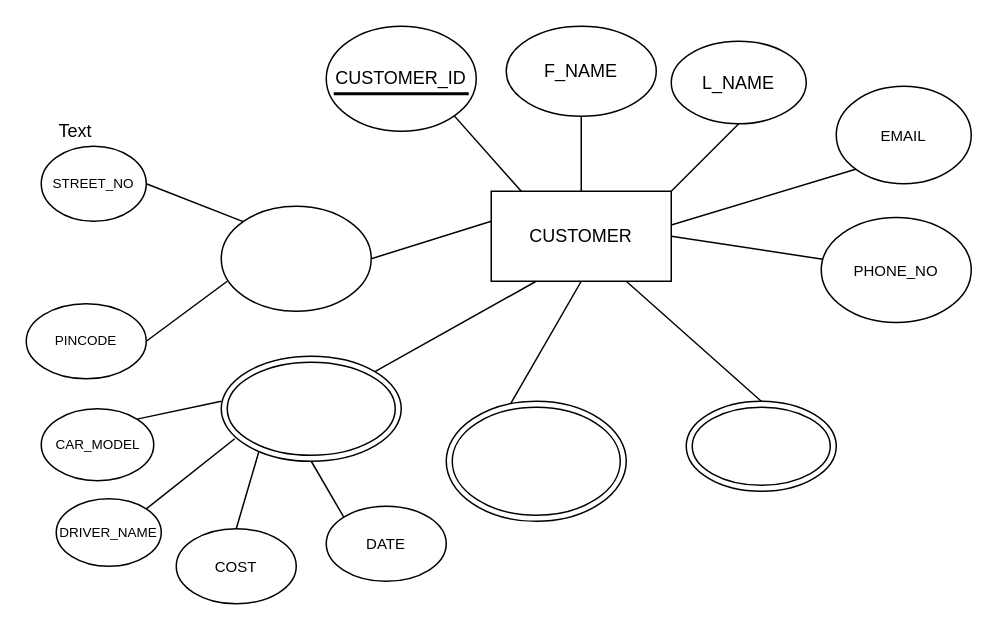
This 998x630 diagram has some shape labels left out. Each missing label, with the box of its shape:
ADDRESS: (220, 205, 371, 311)
FAV_LOCATIONS: (685, 400, 836, 491)
PAYMENT_METHODS: (445, 400, 626, 521)
PREV_TRIPS: (220, 355, 401, 461)
